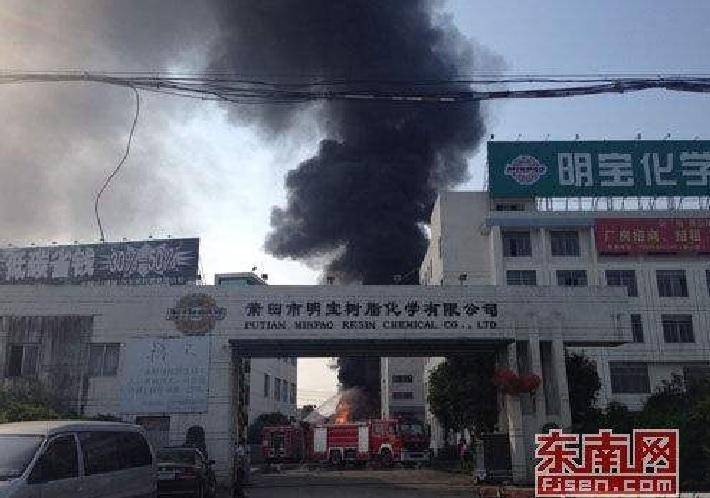fire: (333, 400, 350, 422)
